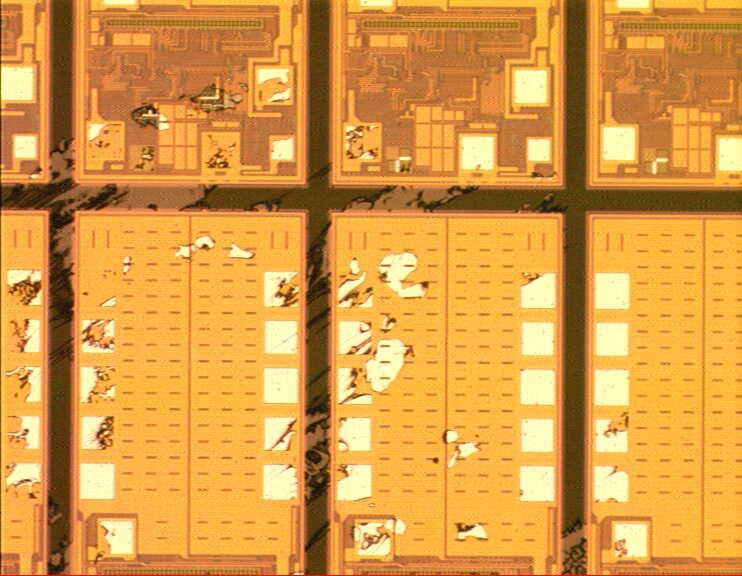COATING BAD: (1, 62, 659, 576)
